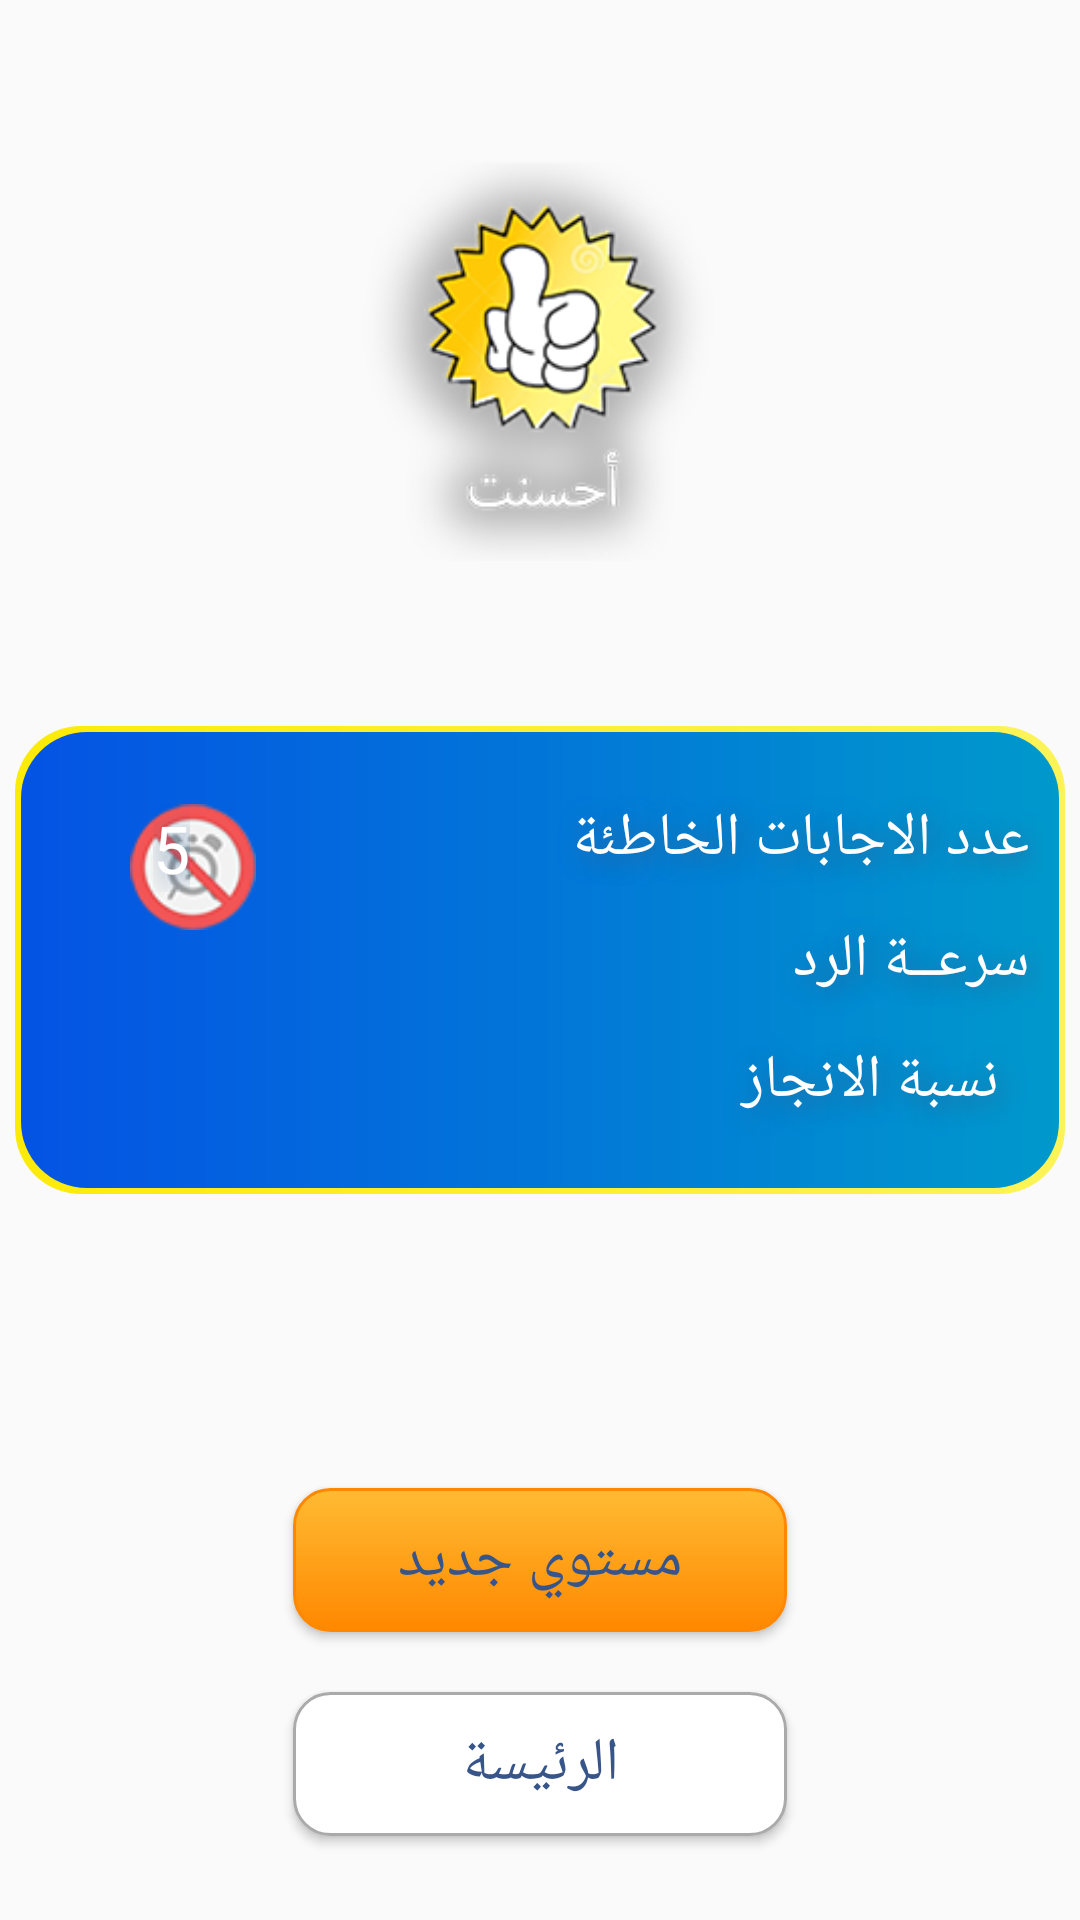

Where to tap for icons on this 1080 x 1920 app screen, as (x=x, y=y):
stoptime: (x=193, y=867)
